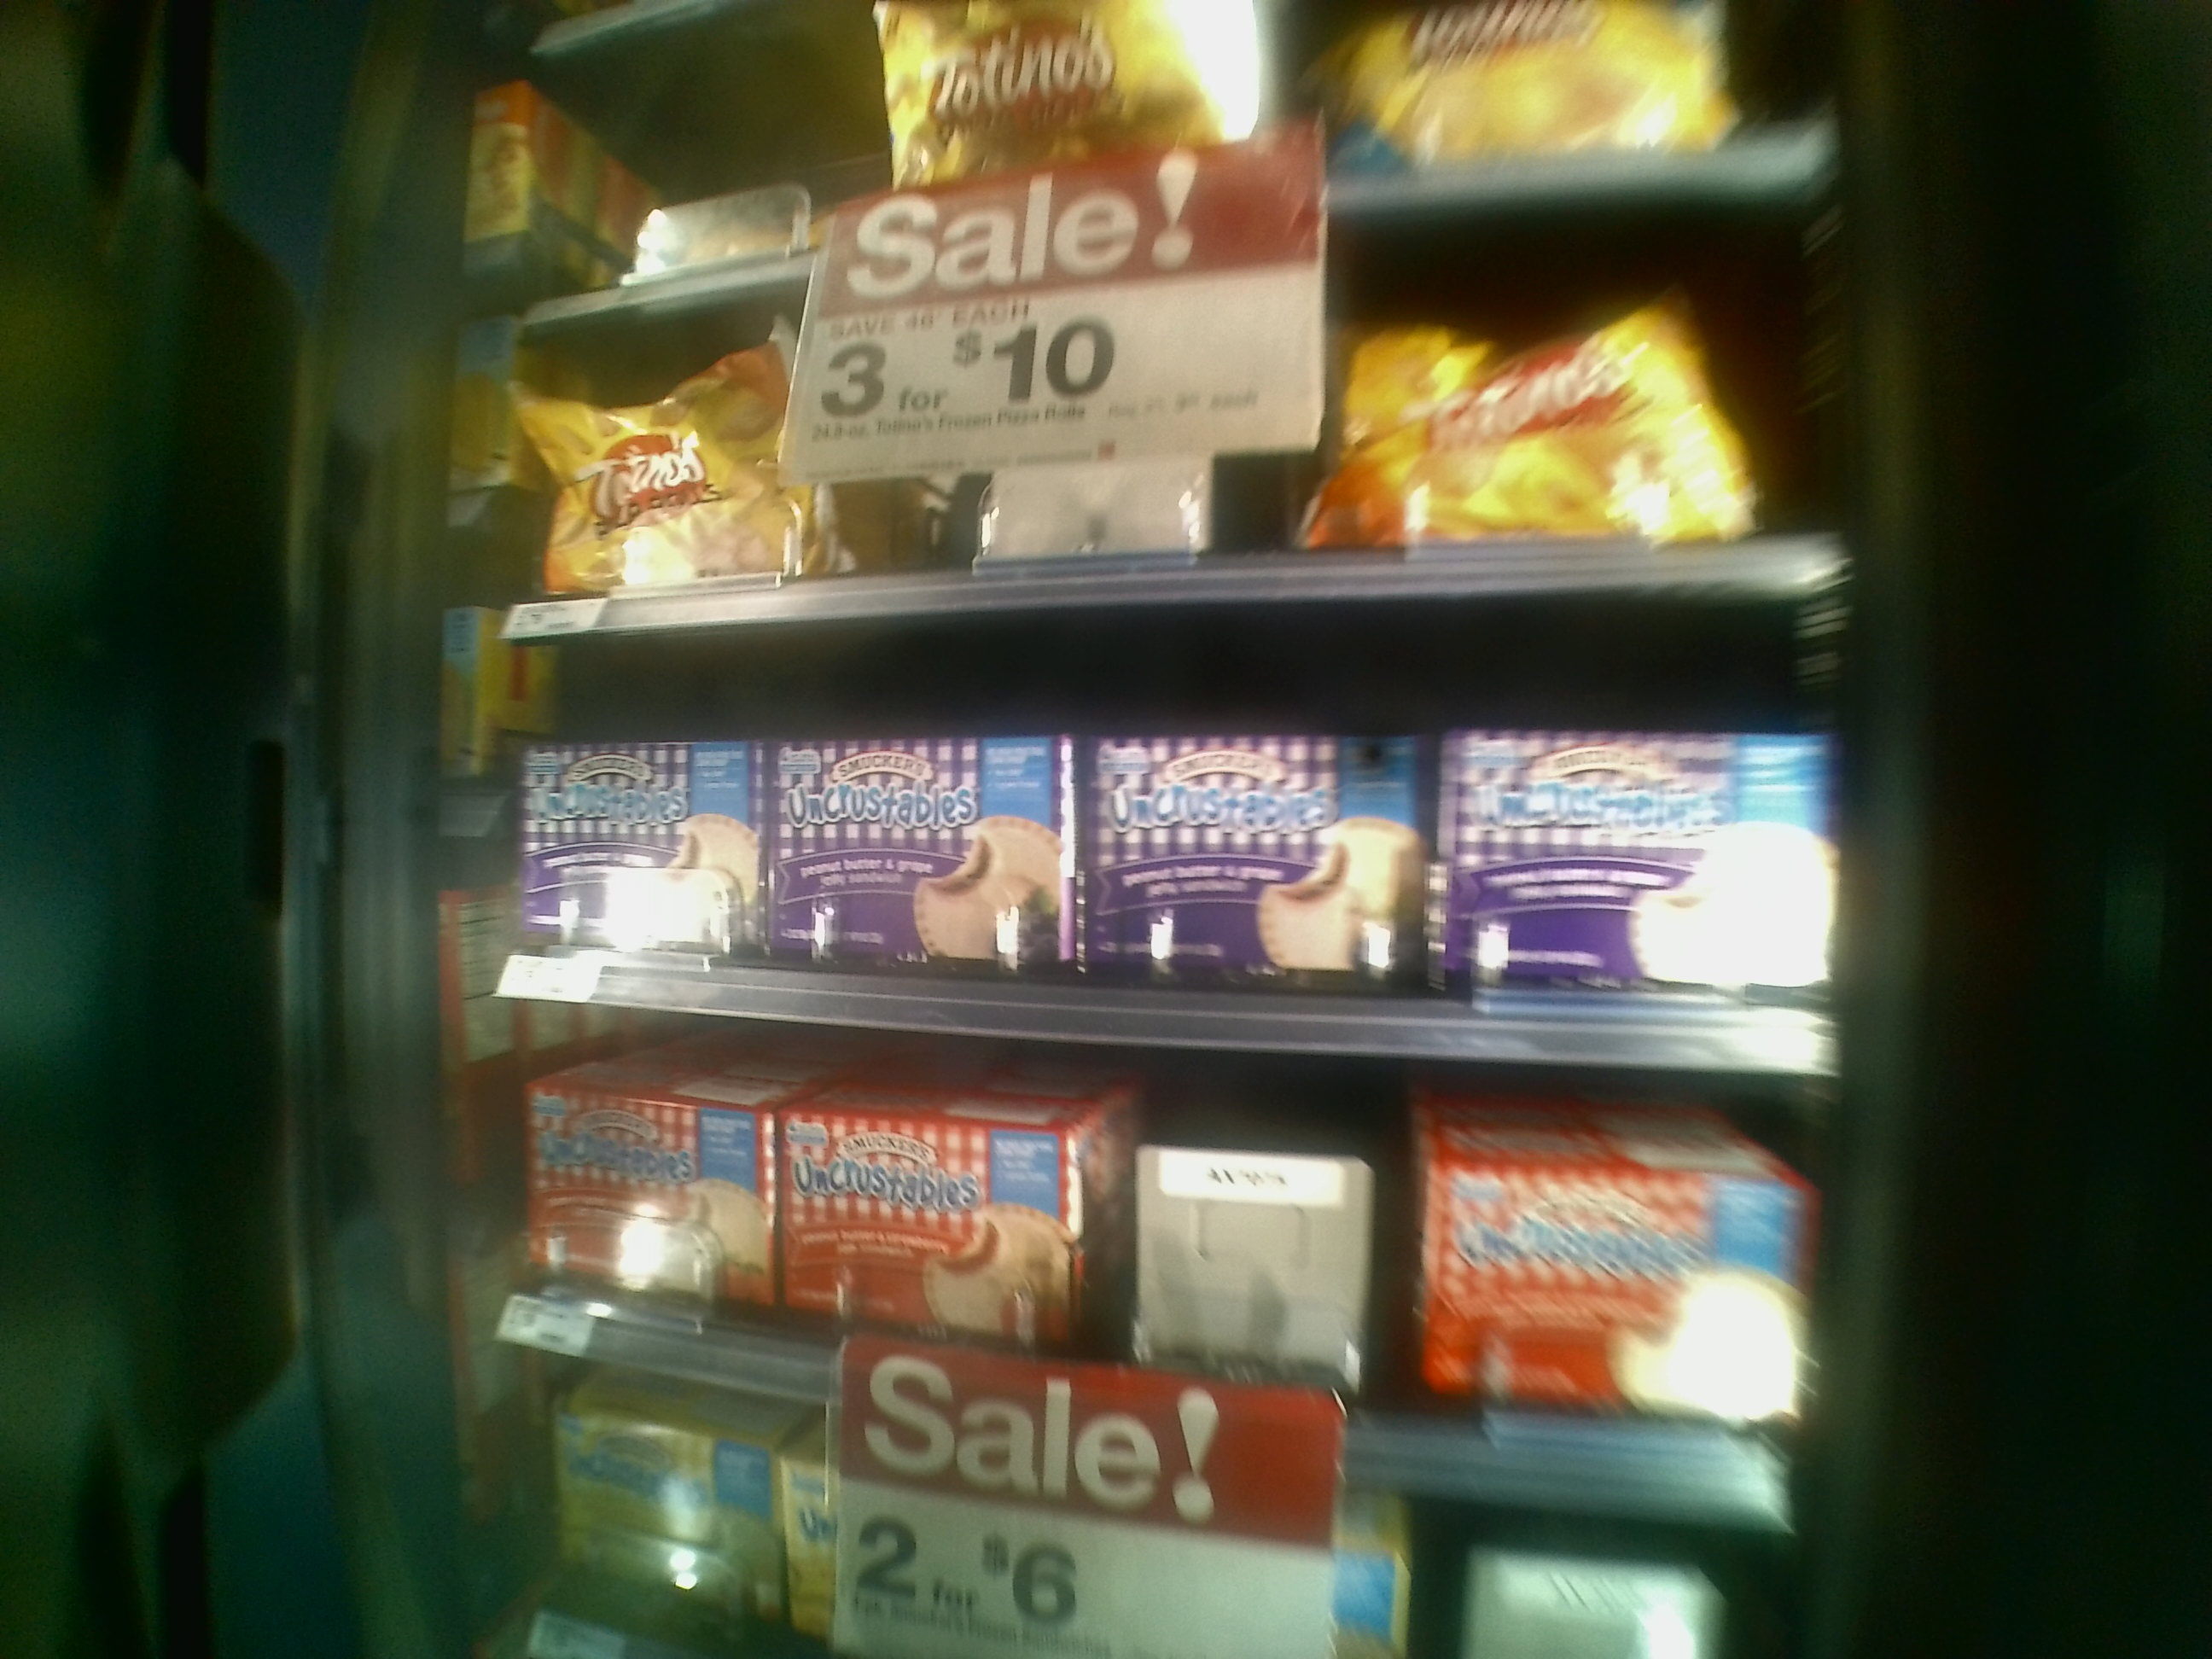shelf: (516, 978, 1780, 1497), (512, 613, 1801, 1053), (503, 274, 1832, 570)
